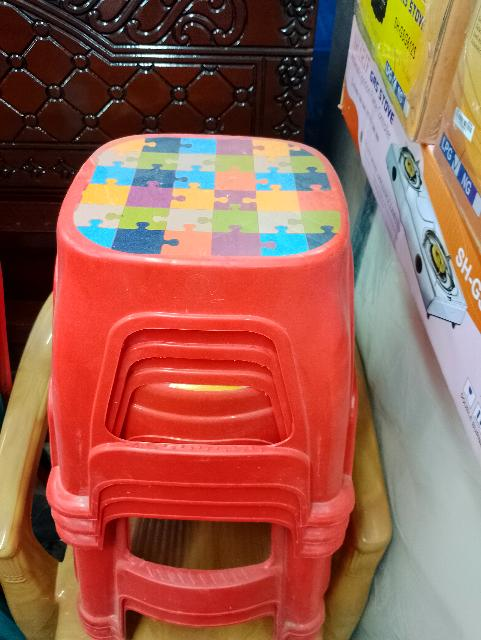hardplastic: (59, 124, 357, 640)
